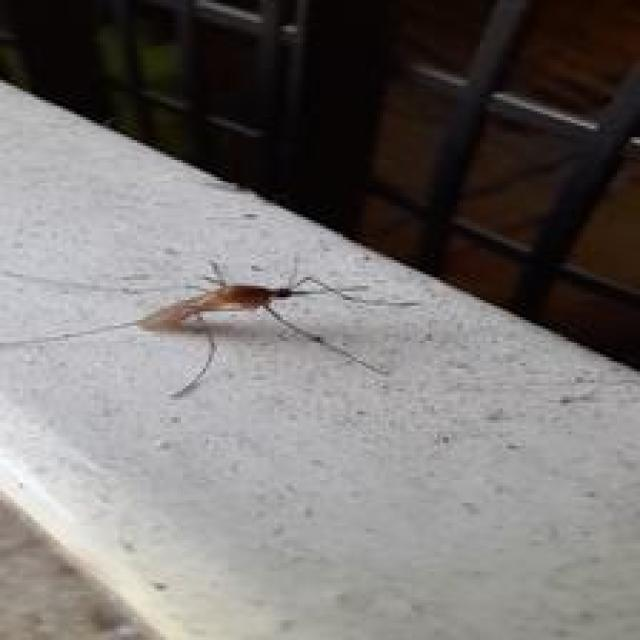Culex: (133, 263, 418, 400)
